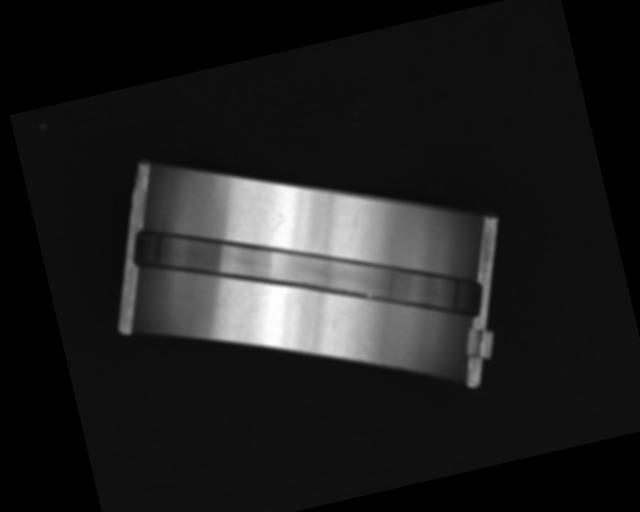gap: (126, 159, 488, 387)
nick: (343, 206, 367, 241)
